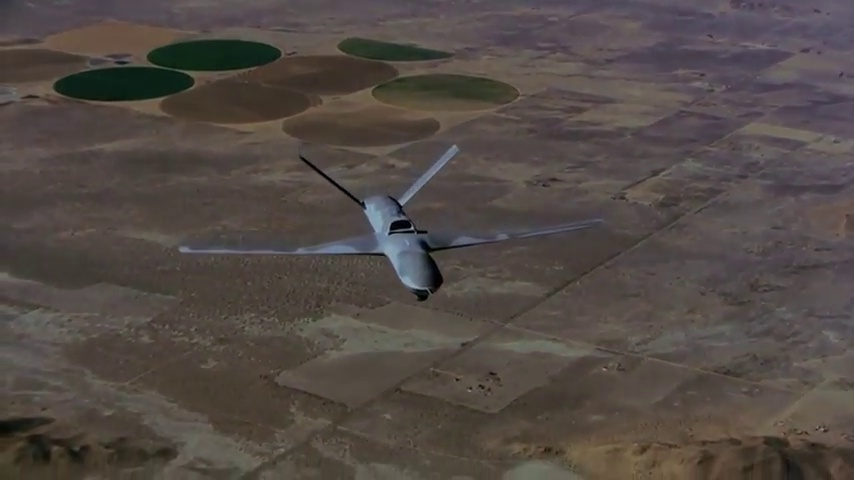military drone: (179, 144, 609, 301)
